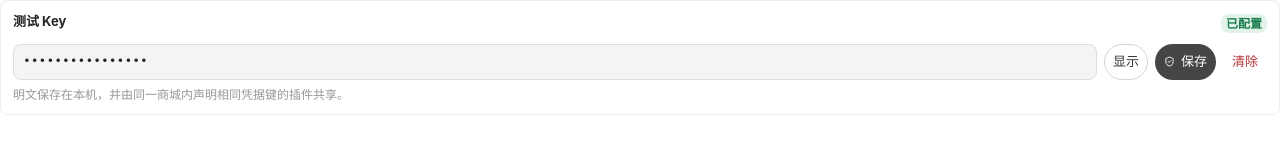
Scenario: masks saved values by default and re-masks after saving
Click the button with aria-label "显示凭据" at (1126, 62), box [1104,44,1148,80]
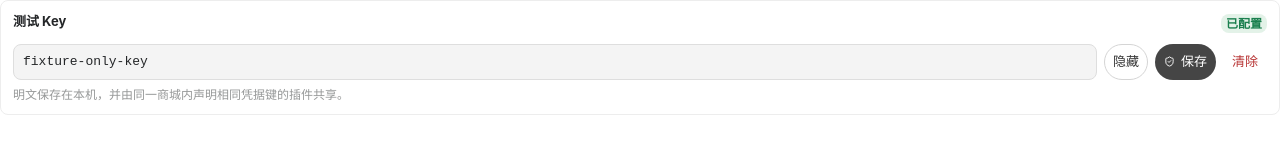
Expected: the field named "测试 Key 凭据" shows its text, [13,44,1097,80]
Click the button "保存" at (1186, 62), box [1155,44,1216,80]
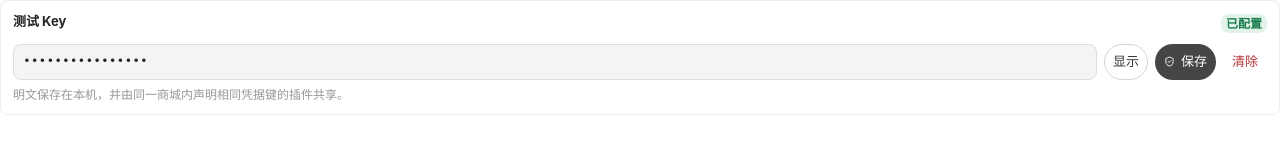
Expected: the password field named "测试 Key 凭据" hides its text, [13,44,1097,80]
